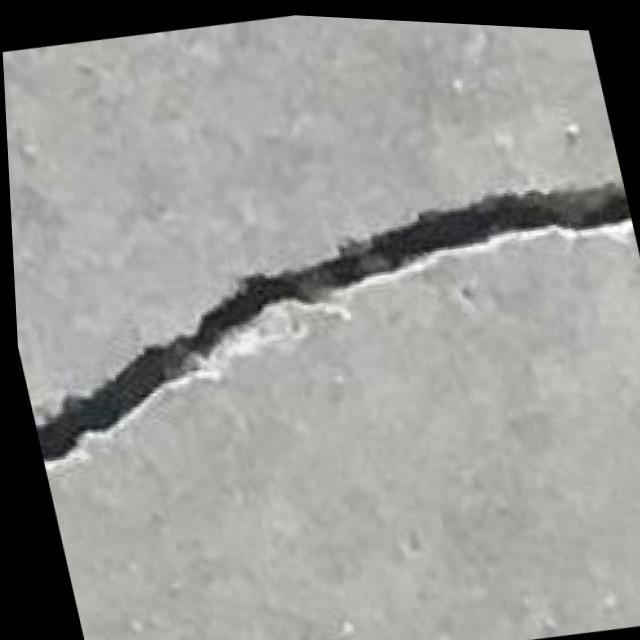Crack: (5, 117, 640, 464)
